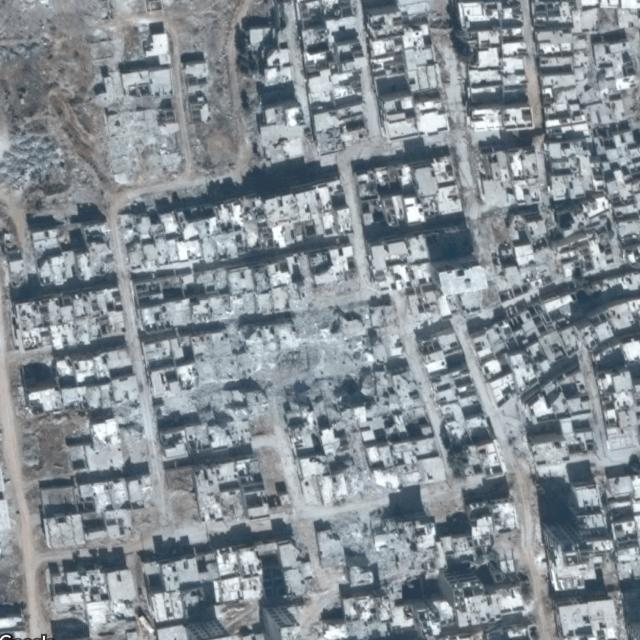damaged_building: (190, 270, 378, 420), (321, 507, 444, 591)
